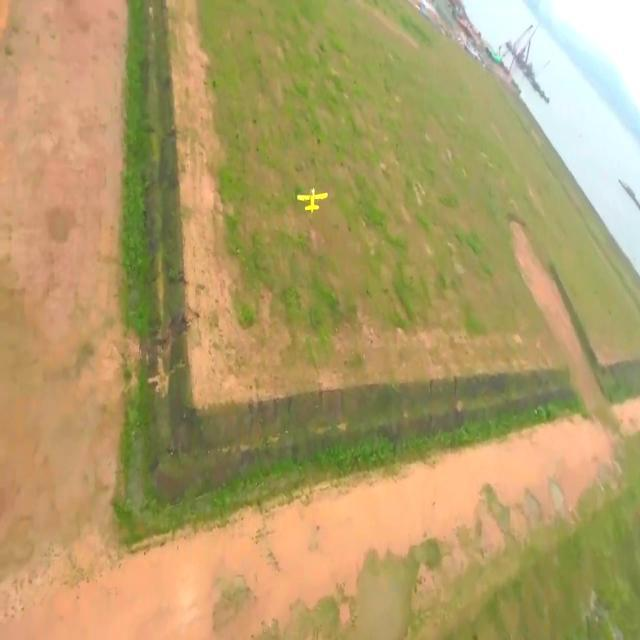iha: (292, 180, 334, 216)
